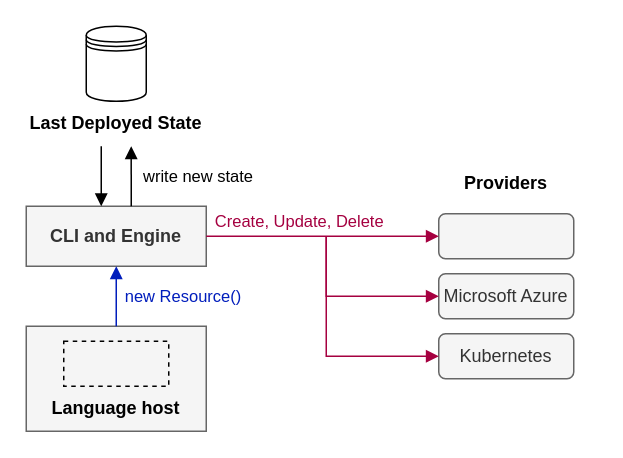
This 623x458 diagram has some shape labels left out. Each missing label, with the centre of its shape:
"AWS" belongs at [505,235].
"index.js" belongs at [115,363].
